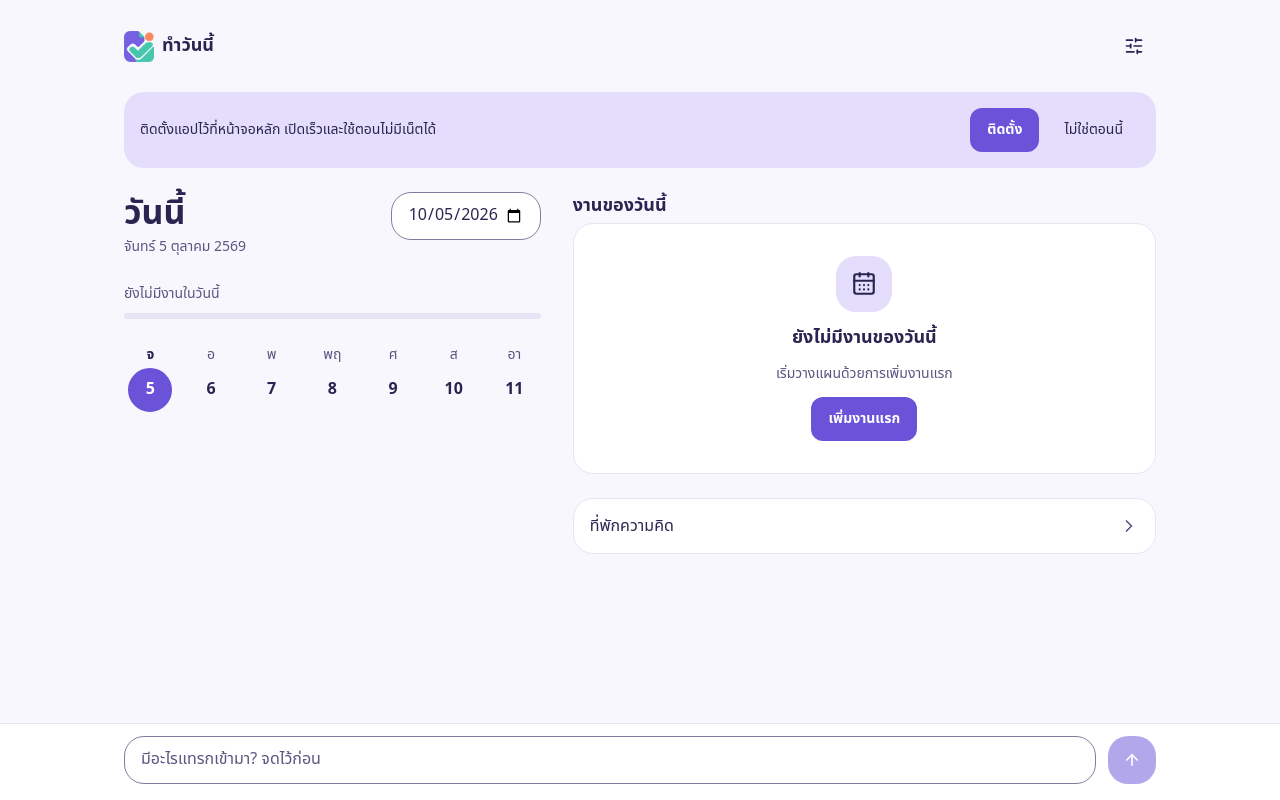
Test: PWA ในหน้าจอ (เฟส 5) › แบนเนอร์ชวนติดตั้ง › เบราว์เซอร์ส่งอีเวนต์ -> ขึ้นแบนเนอร์ กด "ติดตั้ง" แล้วเรียกกล่องของเบราว์เซอร์ และแบนเนอร์หาย
Step 1. Click the button "ติดตั้ง" → (1005, 130), box [970, 108, 1040, 152]
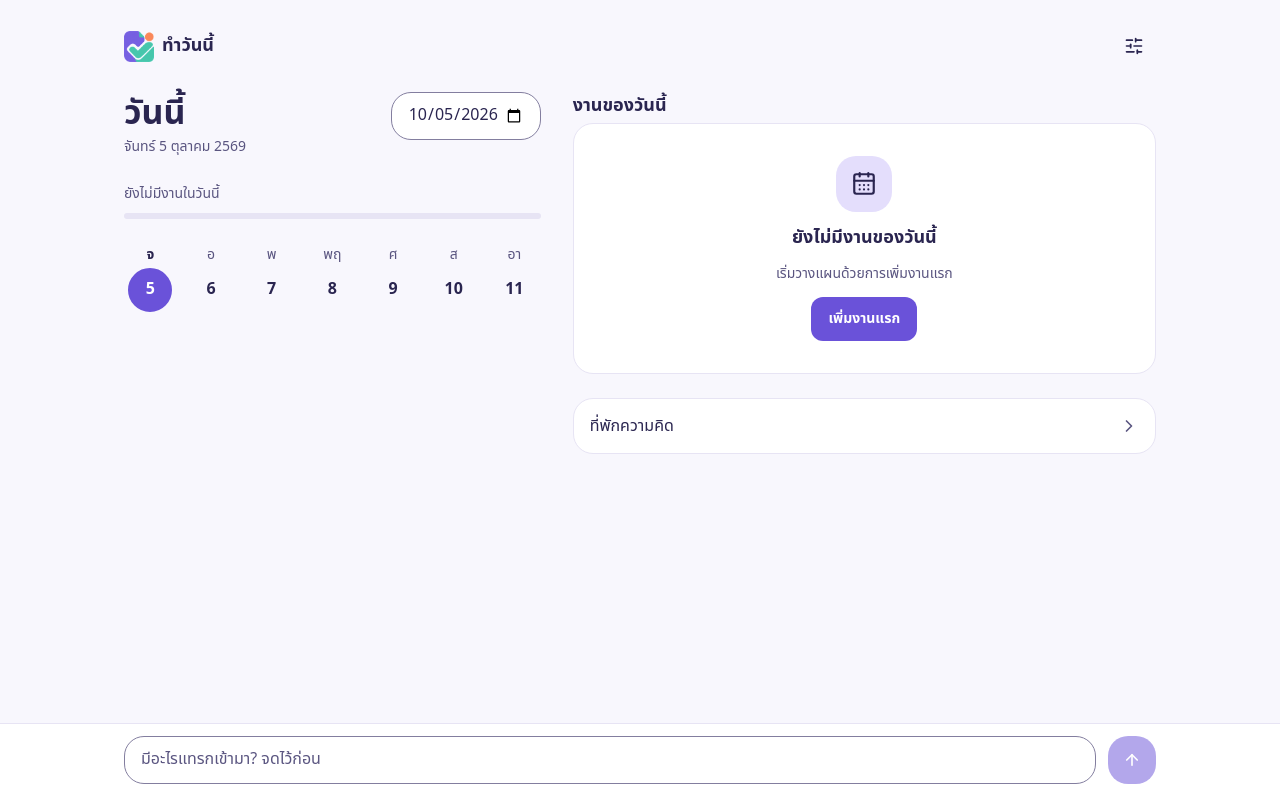
Expected: the text "ติดตั้งแอปไว้ที่หน้าจอหลัก" is gone
